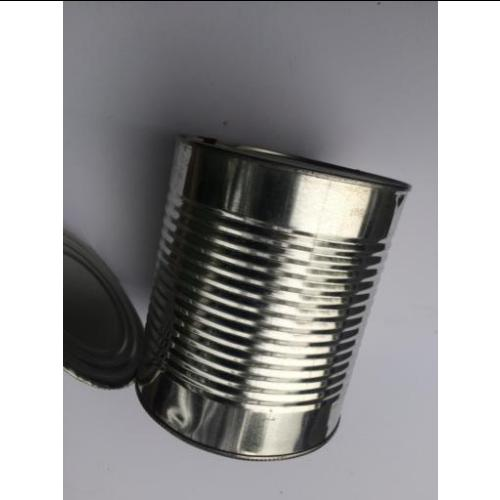metal: (141, 129, 408, 459)
